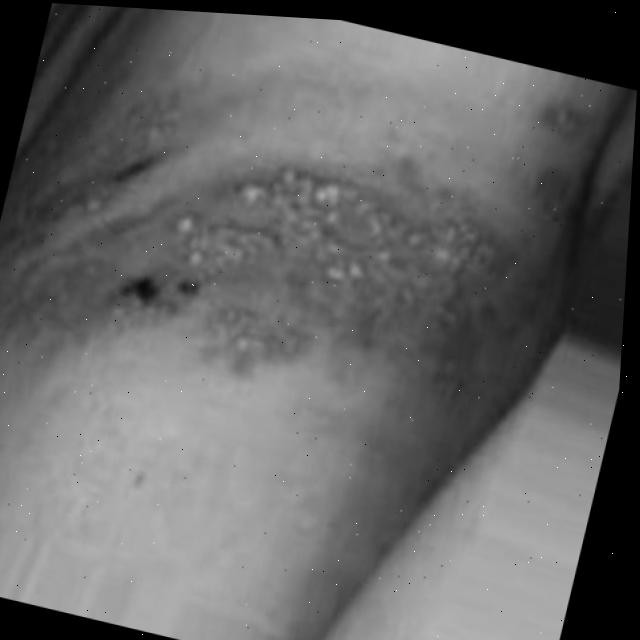Shingles: (132, 117, 543, 413)
